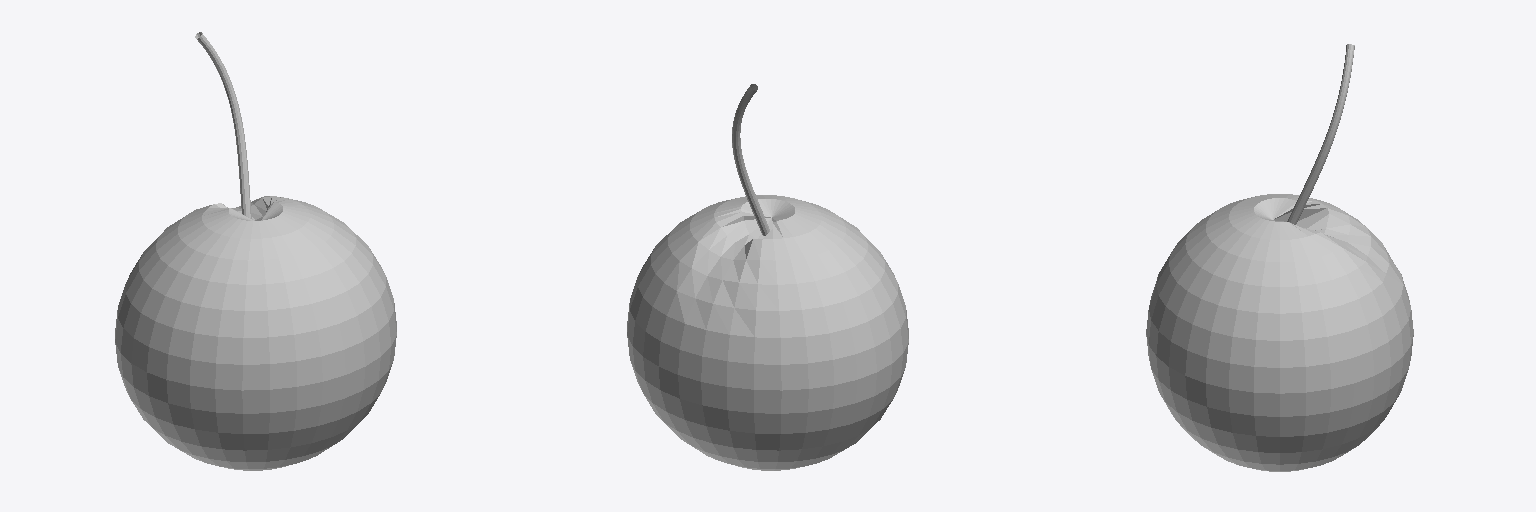
File: cherry.obj
3 views of the same model, side by side, from view 1: azimuth 30°, elevation 25°; view 2: azimuth 150°, elevation 25°; view 3: azimuth 270°, elevation 25° (orthographic).
Visible parts, largest first — view 1: Sphere, NurbsPath; view 2: Sphere, NurbsPath; view 3: Sphere, NurbsPath.
Part boxes in pixels (x1,y1,x2,y2): Sphere: (115,196,396,470); NurbsPath: (195,32,251,218); Sphere: (627,195,908,470); NurbsPath: (732,84,769,235); Sphere: (1146,194,1413,471); NurbsPath: (1287,44,1354,224).
Size of the model in its own units: 3.39 by 5.25 by 3.15.